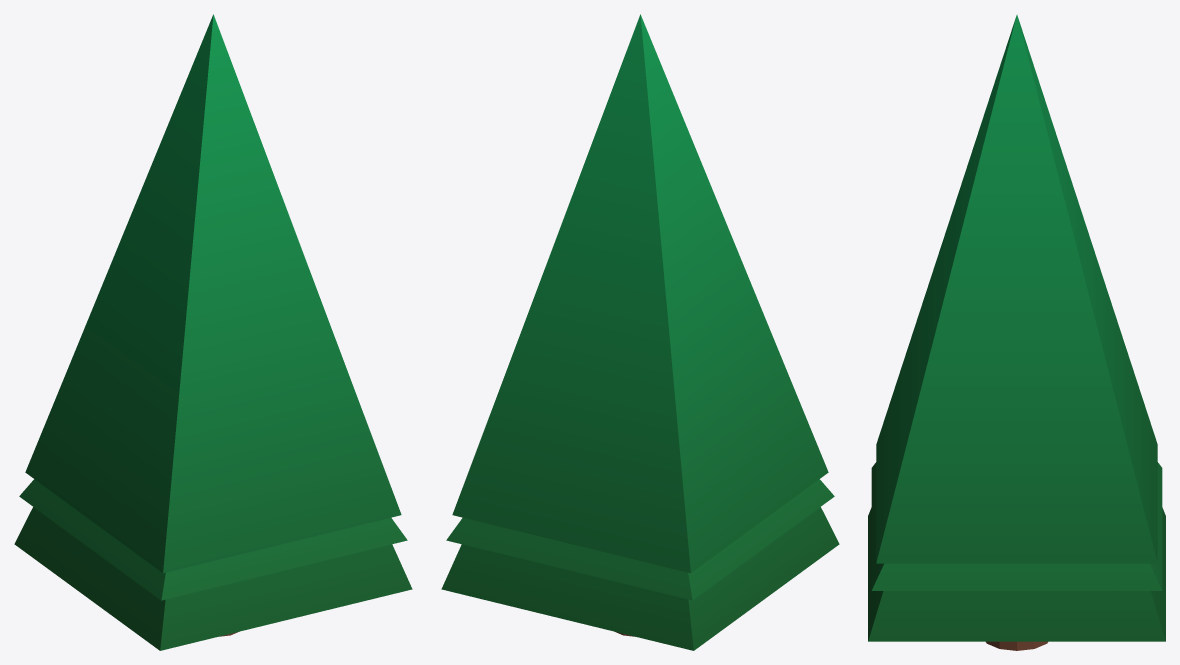
File: Tree_34_gradient_green_vc.fbx
3 renders of one model, left to right at view 1: azimuth 30°, elevation 25°; view 2: azimuth 150°, elevation 25°; view 3: azimuth 270°, elevation 25°, orthographic. The views are drawn at different scales.
Visible parts, largest first — view 1: Tree_34_gradient_green_vc; view 2: Tree_34_gradient_green_vc; view 3: Tree_34_gradient_green_vc.
Boxes of the visible parts, x1,y1,x2,y2 form: Tree_34_gradient_green_vc: (14,14,412,650); Tree_34_gradient_green_vc: (441,14,839,650); Tree_34_gradient_green_vc: (868,15,1165,650).
Bounding box in the file's own units: 83.78 × 193 × 83.78.
